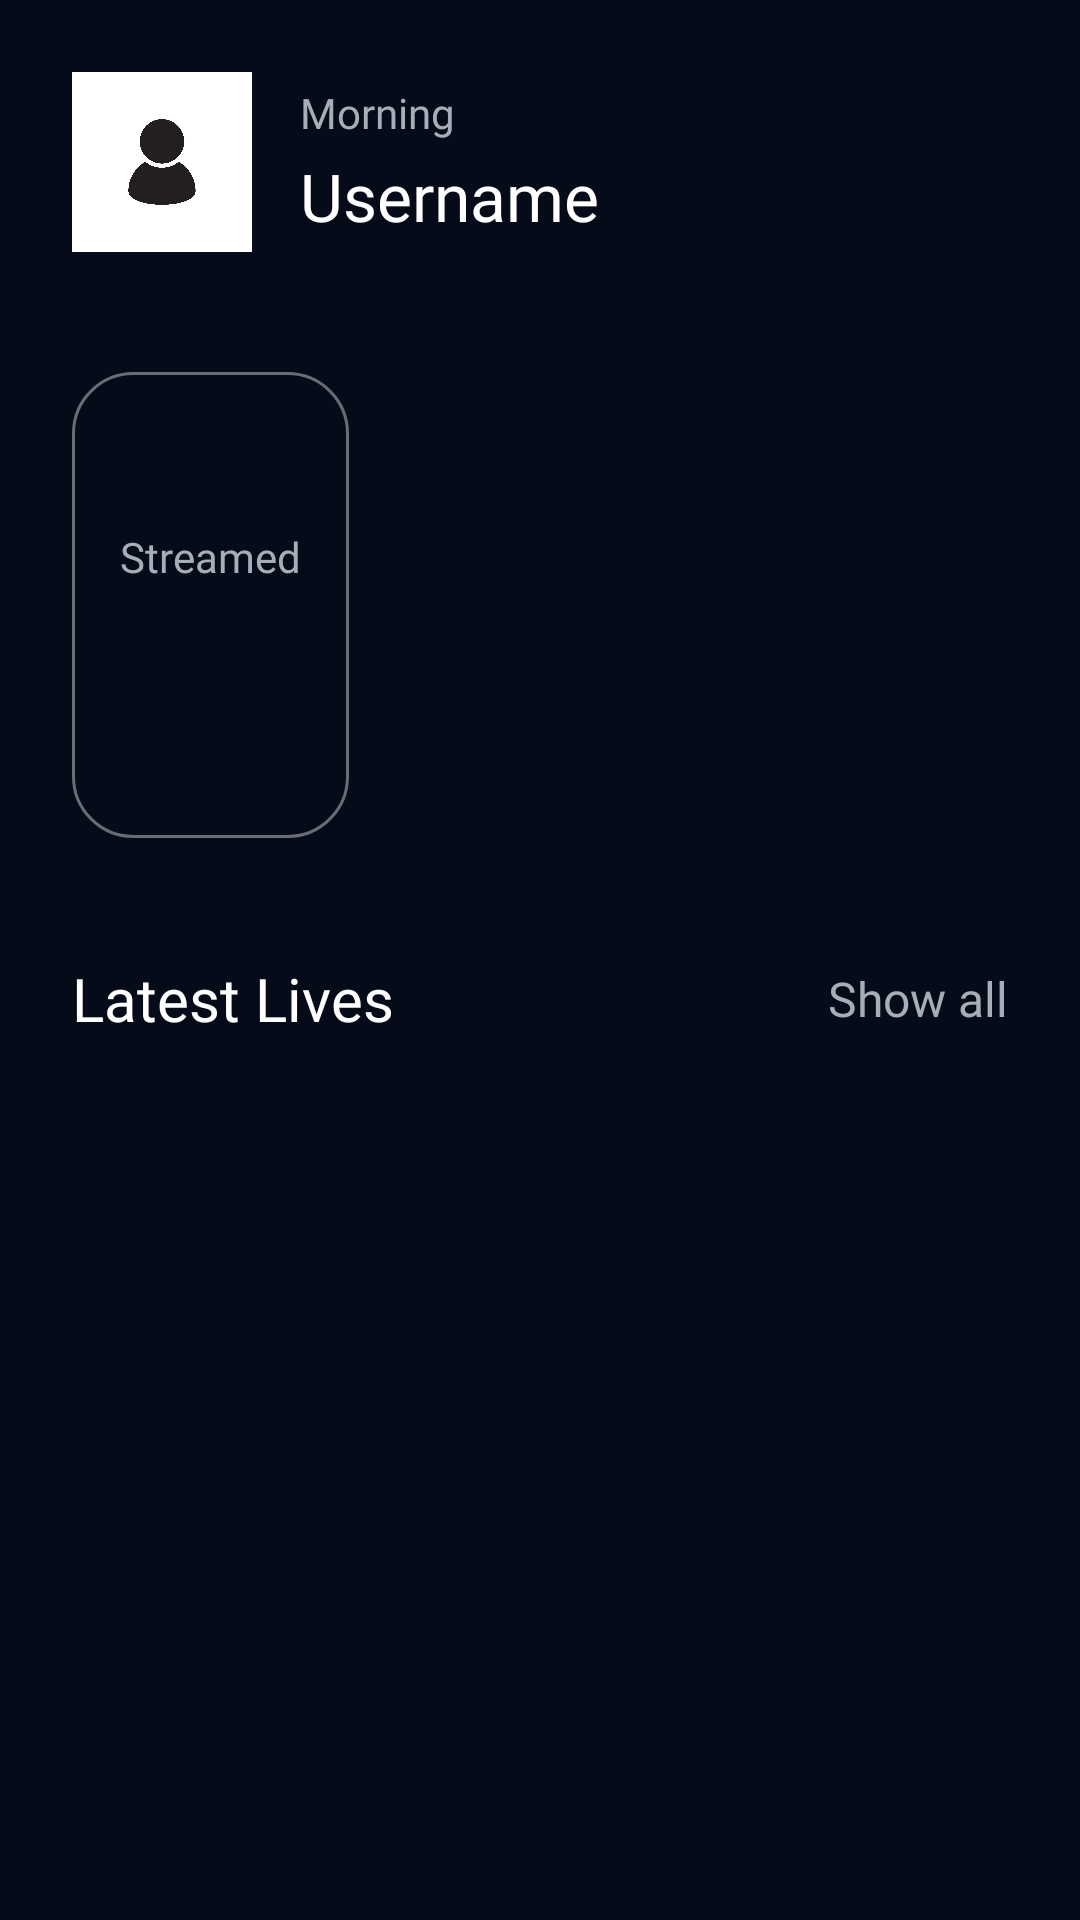

Point at icon controls on the screen. Image size 1080×1920, points as (x,y).
guest: (162,162)
